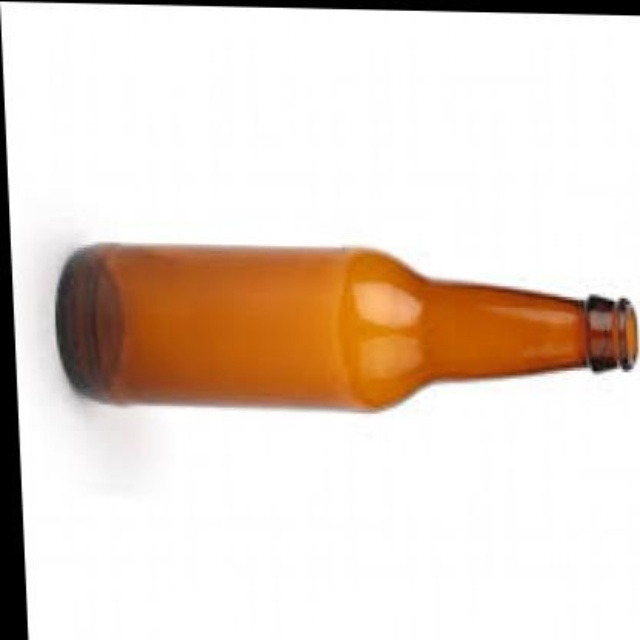trash: (55, 245, 637, 409)
